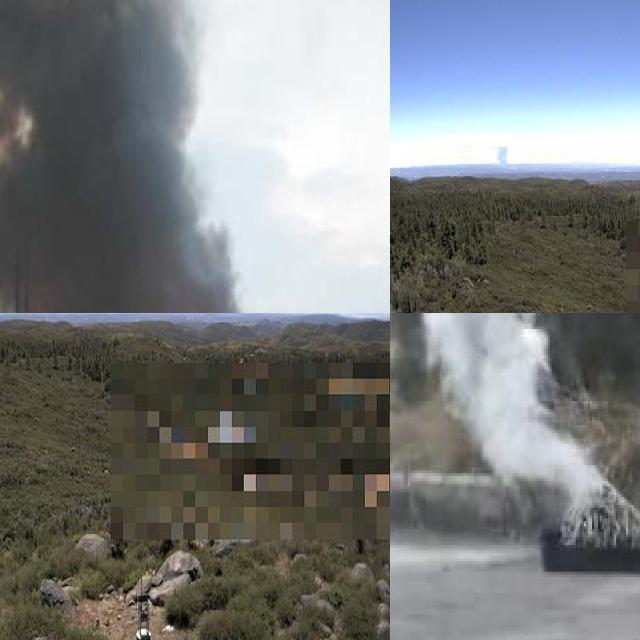smoke: (0, 1, 295, 313), (390, 313, 604, 494), (493, 143, 514, 176)
